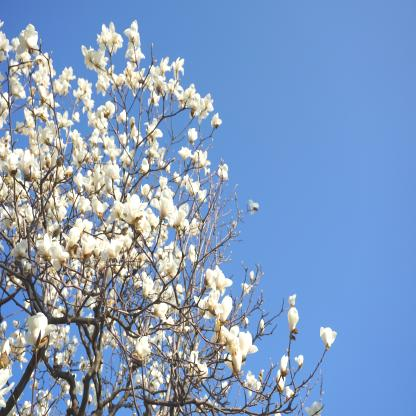Mokuren: (0, 17, 338, 416)
